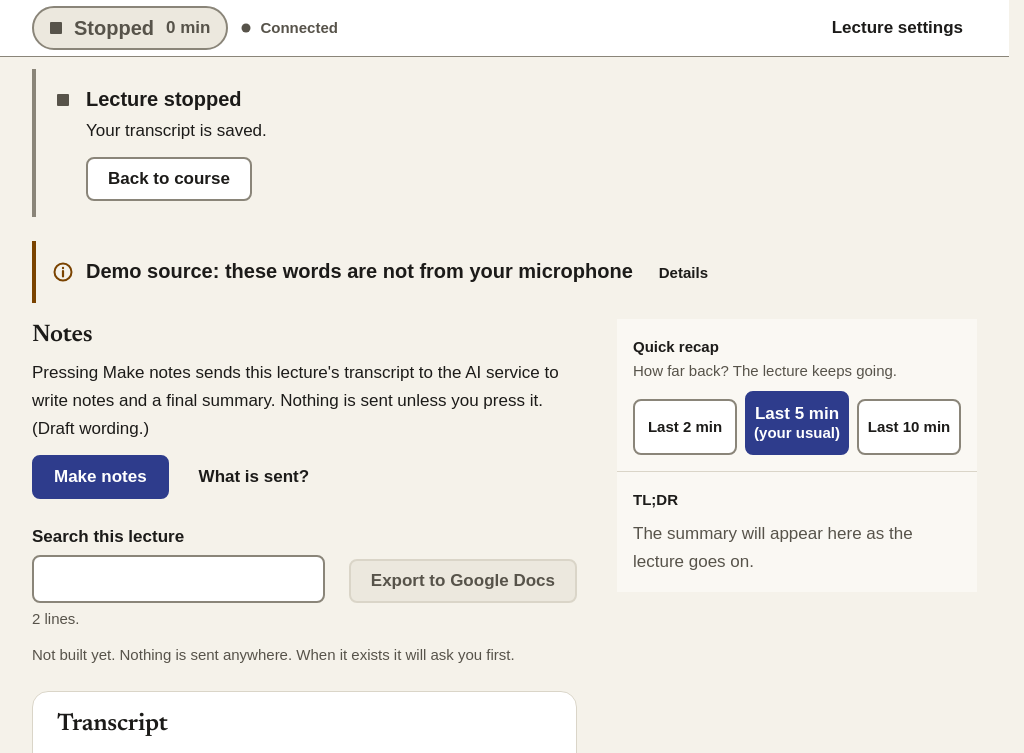
the press (1.5, AC3, AC4) › one activation = one POST with a key; a second activation while busy sends nothing; label kept; then Pending with focus on Notes and one announcement
Click the button "Make notes": (100, 477) [32,455,169,499]
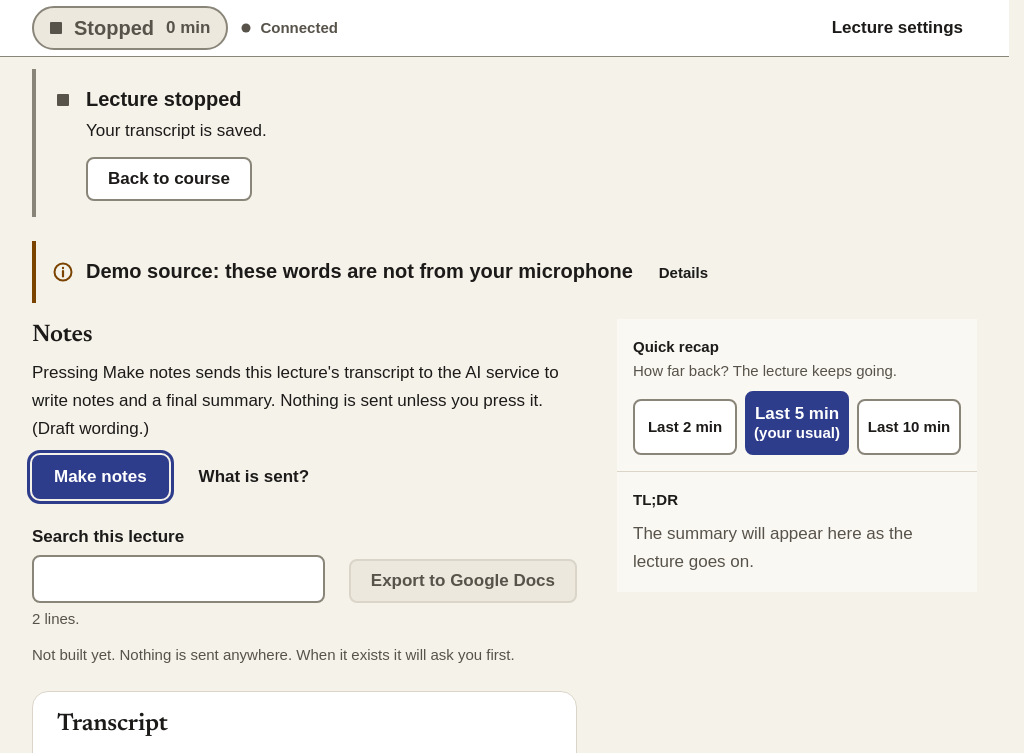
Click the button "Make notes": (100, 477) [32,455,169,499]
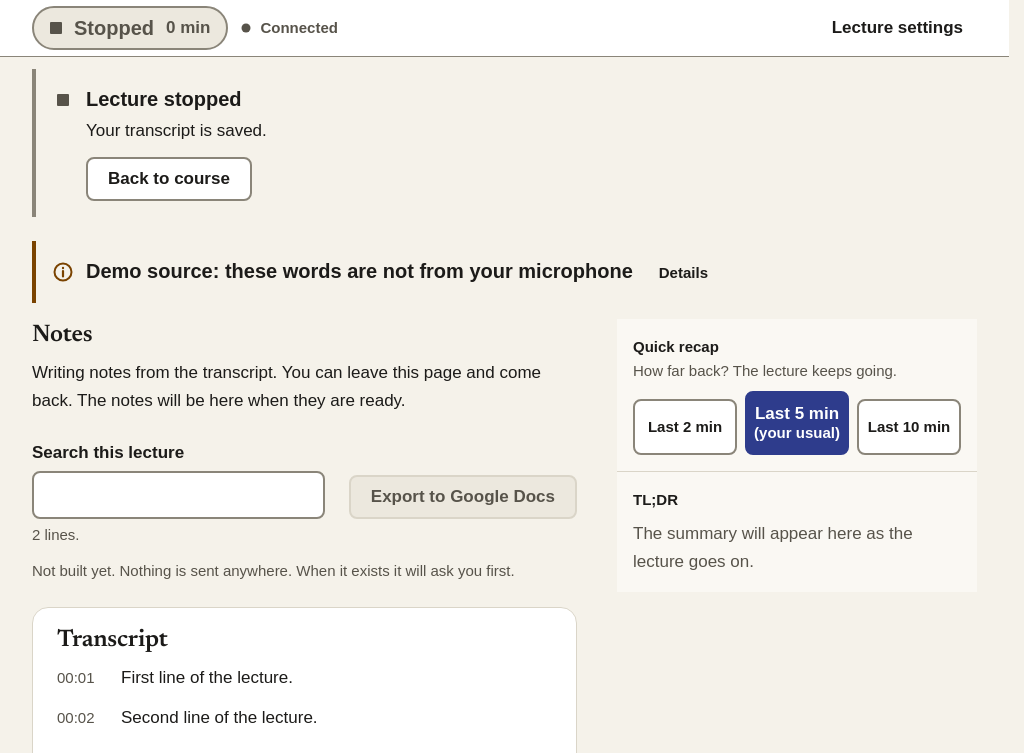
Check: the text "Make notes" is gone
Check: the text with test id "notes-pending" shows "Writing notes from the transcript. You can leave this page and come back. The notes will be here when they are ready.", box [32,363,541,410]
